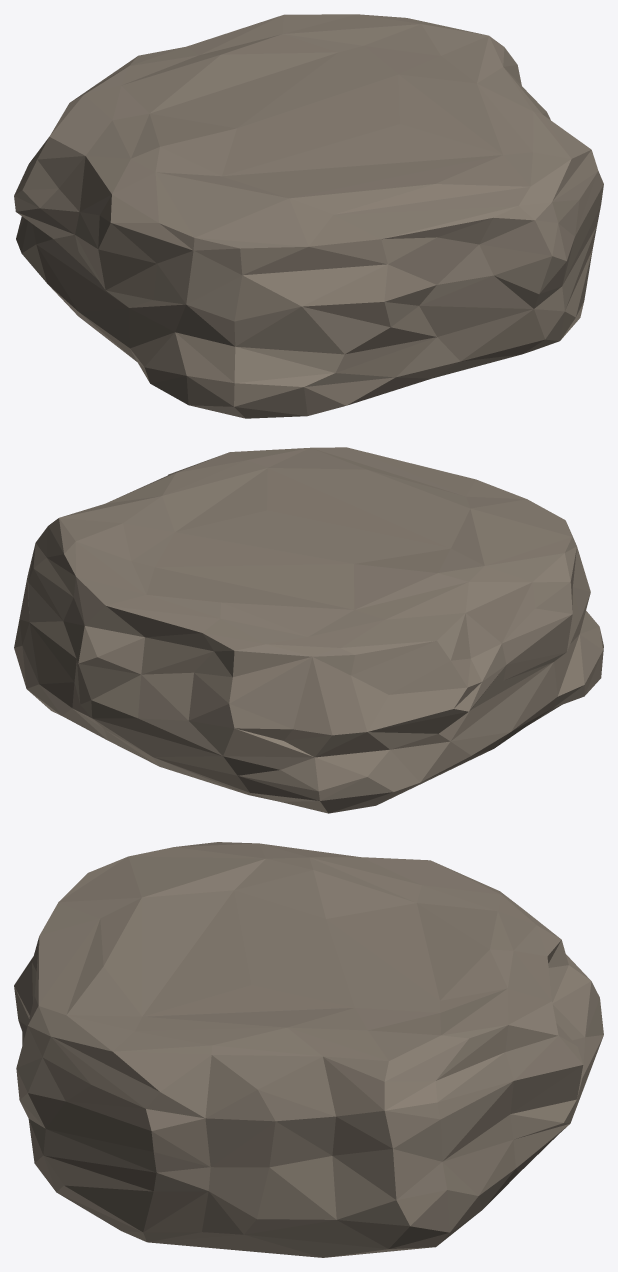
File: SM_Env_Rock_Flat_01.glb
3 views of the same model, one above another, from view 1: azimuth 30°, elevation 25°; view 2: azimuth 150°, elevation 25°; view 3: azimuth 270°, elevation 25° (orthographic). The views are drawn at different scales.
Parts seen in each view (by area): view 1: SM_Env_Rock_Flat_01; view 2: SM_Env_Rock_Flat_01; view 3: SM_Env_Rock_Flat_01.
Boxes of the visible parts, x1=… form: SM_Env_Rock_Flat_01: x1=14, y1=14, x2=603, y2=418; SM_Env_Rock_Flat_01: x1=14, y1=447, x2=603, y2=813; SM_Env_Rock_Flat_01: x1=14, y1=842, x2=603, y2=1257.
Bounding box in the file's own units: 9.36 × 3.42 × 9.03.
Materials: 1 (1 with a texture image).
